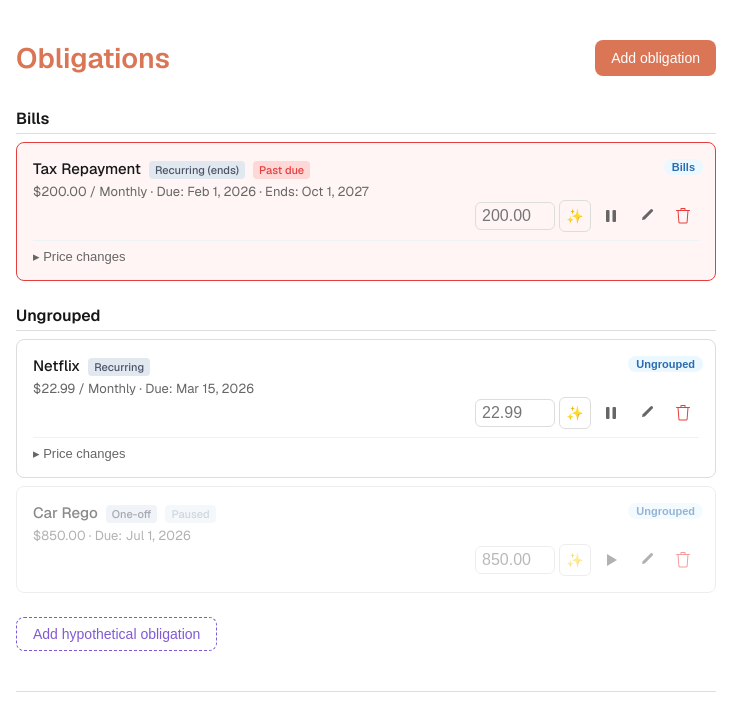
ObligationsPage › shows hypothetical form when Add hypothetical is clicked
The width and height of the screenshot is (733, 709).
expect the text "Netflix" is shown: met, box top-left (33, 356), bottom-right (80, 375)
Click the button "Add hypothetical obligation". click: point(117, 634)
box: top-left (16, 617), bottom-right (217, 651)
(page scrolled)
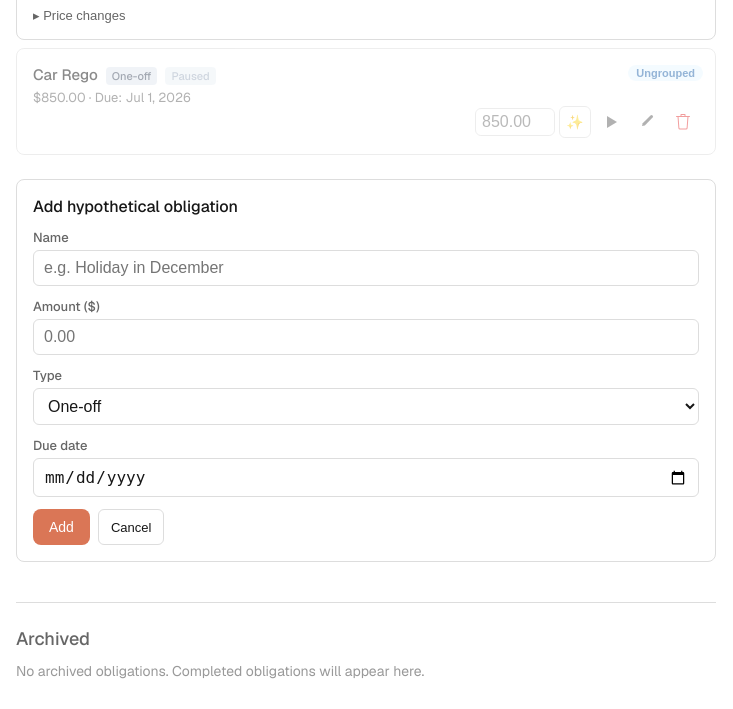
expect the form with test id "hypothetical-form" is shown: met, box top-left (16, 179), bottom-right (716, 562)
